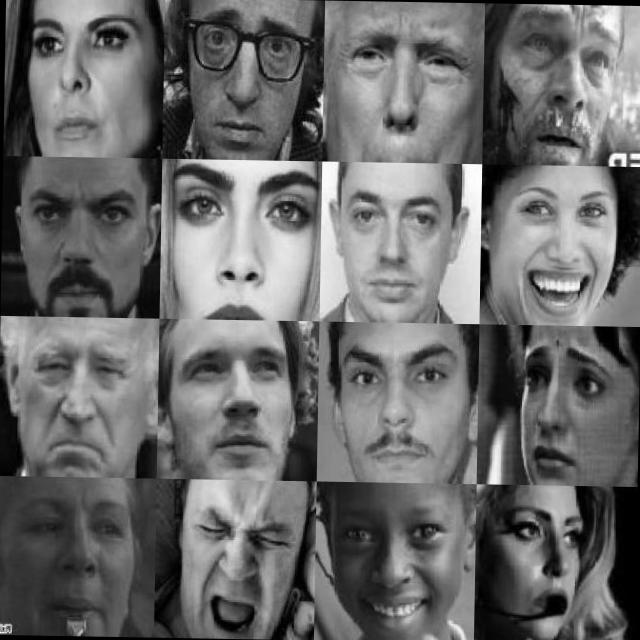angry: (7, 327, 150, 477), (14, 162, 153, 313), (336, 21, 474, 160)
fear: (493, 10, 626, 155)
happy: (320, 492, 468, 640), (0, 483, 137, 636), (496, 170, 633, 322), (164, 323, 301, 470)
neutral: (169, 163, 318, 320), (329, 322, 472, 478), (20, 0, 157, 151), (330, 172, 462, 320), (487, 486, 606, 640)
sad: (164, 2, 320, 156), (172, 484, 306, 640), (504, 330, 629, 480)
